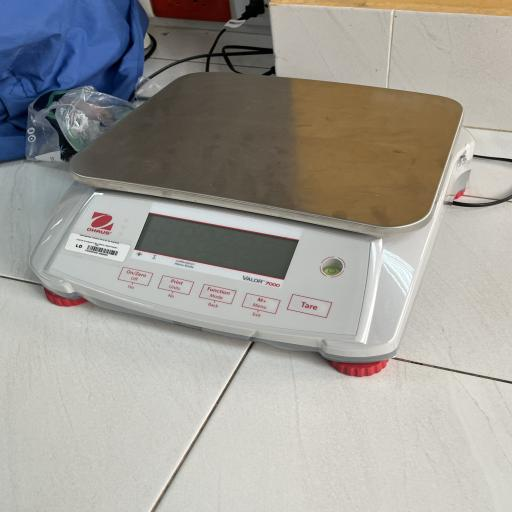Balanza_Granataria_Ohaus: (17, 61, 493, 390)
